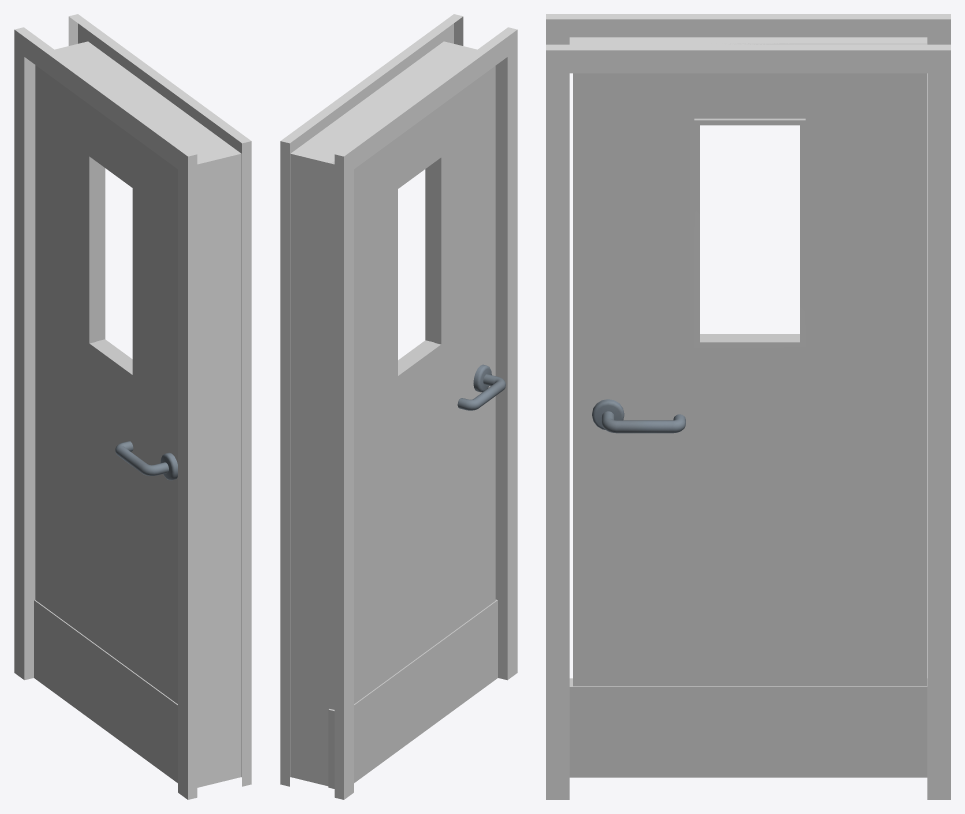
Rendered from Door_01.fbx.
3 views of the same model, side by side, from view 1: azimuth 30°, elevation 25°; view 2: azimuth 150°, elevation 25°; view 3: azimuth 270°, elevation 25° (orthographic). The views are drawn at different scales.
Visible parts, largest first — view 1: Classroom_Door_01, ClassRoom_Casing_Door_01, Classroom_HandleDoor_01; view 2: Classroom_Door_01, ClassRoom_Casing_Door_01, Classroom_HandleDoor_01; view 3: Classroom_Door_01, ClassRoom_Casing_Door_01, Classroom_HandleDoor_02.
Part boxes in pixels (box(x1,y1,x2,y2)): Classroom_Door_01: box(34, 65, 177, 782); ClassRoom_Casing_Door_01: box(14, 14, 251, 799); Classroom_HandleDoor_01: box(115, 441, 177, 480); Classroom_Door_01: box(328, 66, 497, 788); ClassRoom_Casing_Door_01: box(280, 14, 517, 799); Classroom_HandleDoor_01: box(457, 364, 505, 410); Classroom_Door_01: box(569, 43, 927, 777); ClassRoom_Casing_Door_01: box(546, 14, 950, 799); Classroom_HandleDoor_02: box(592, 399, 685, 433).
Size of the model in its own units: 27.12 by 206 by 101.
3 materials, 1 textured.
